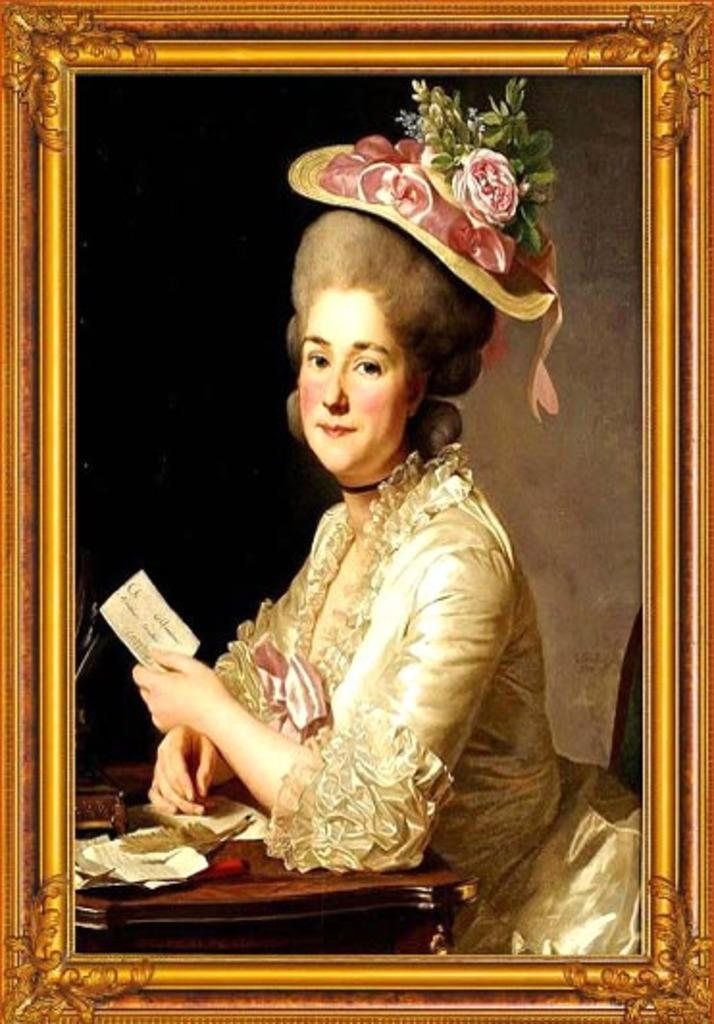Hat: (286, 76, 562, 422)
